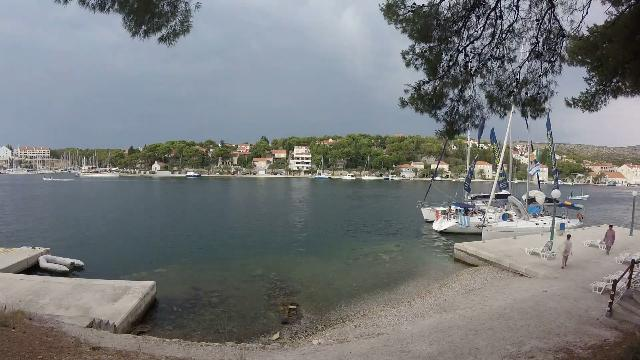speedboat: (40, 174, 59, 182)
